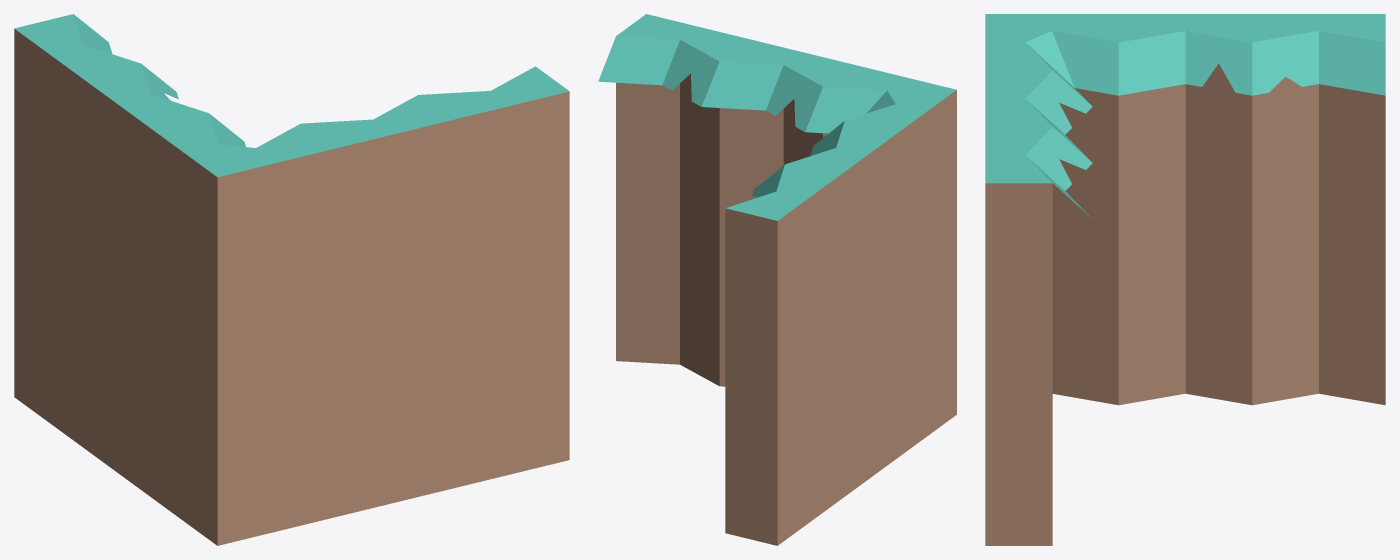
File: cliff_cornerInnerTop_rock.glb
3 views of the same model, side by side, from view 1: azimuth 30°, elevation 25°; view 2: azimuth 150°, elevation 25°; view 3: azimuth 270°, elevation 25° (orthographic). The views are drawn at different scales.
Visible parts, largest first — view 1: cliff_cornerInnerTop_rock; view 2: cliff_cornerInnerTop_rock; view 3: cliff_cornerInnerTop_rock.
Part boxes in pixels (x1,y1,x2,y2): cliff_cornerInnerTop_rock: [14, 14, 569, 545]; cliff_cornerInnerTop_rock: [598, 14, 956, 545]; cliff_cornerInnerTop_rock: [985, 14, 1385, 545].
Bounding box in the file's own units: 1 × 1 × 1.
